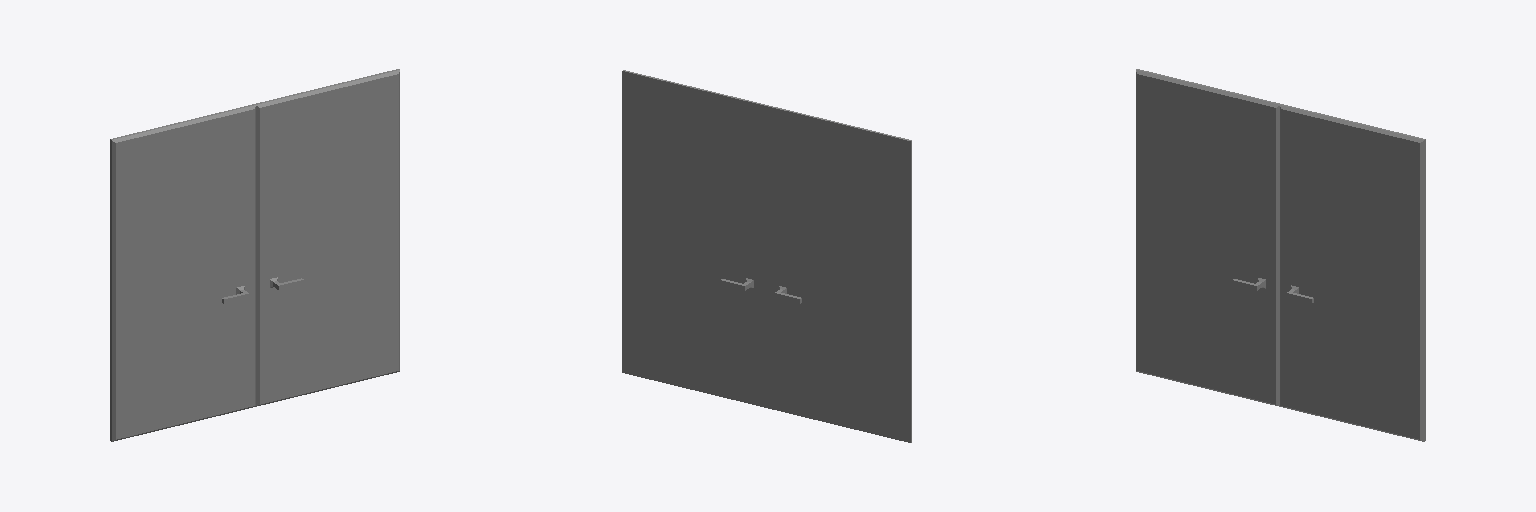
Rendered from Door_14.obj.
3 views of the same model, side by side, from view 1: azimuth 30°, elevation 25°; view 2: azimuth 150°, elevation 25°; view 3: azimuth 330°, elevation 25° (orthographic).
Parts seen in each view (by area): view 1: Box339, Box340; view 2: Box339, Box340; view 3: Box340, Box339.
Boxes of the visible parts, <box> form: Box339: <box>110,104,255,441</box>; Box340: <box>255,69,399,406</box>; Box339: <box>766,105,911,442</box>; Box340: <box>622,70,766,407</box>; Box340: <box>1280,104,1425,441</box>; Box339: <box>1136,69,1280,406</box>.
Bounding box in the file's own units: 118 × 118 × 11.32.